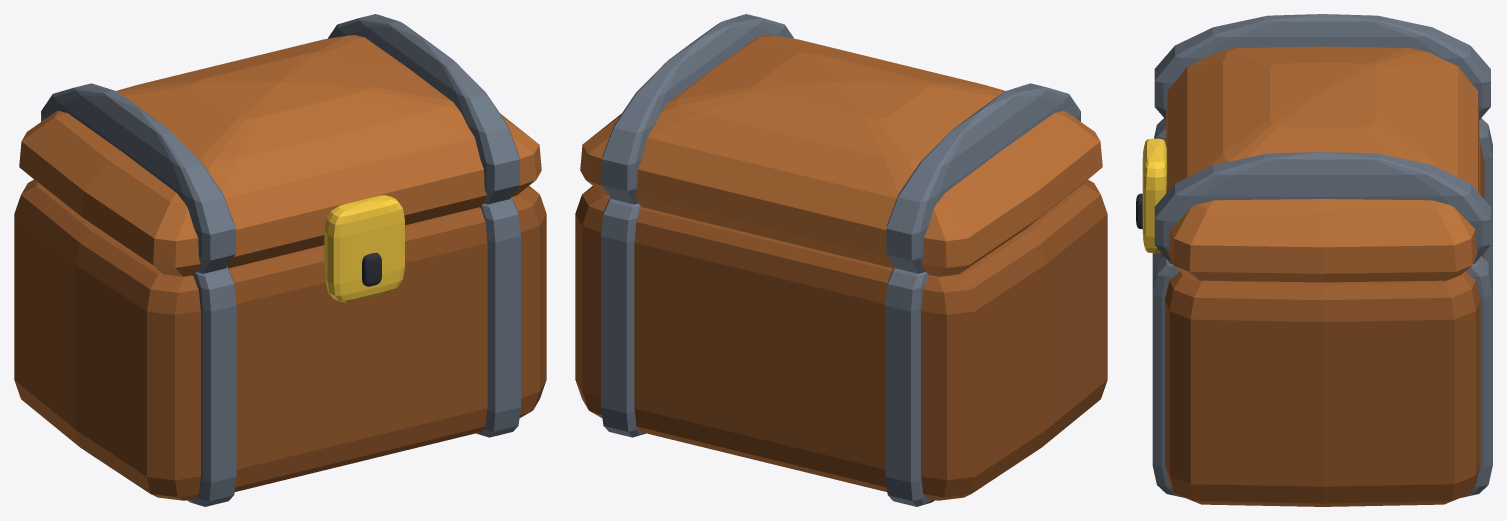
File: chest.glb
The picture shows the model from 3 angles, left to right: view 1: azimuth 30°, elevation 25°; view 2: azimuth 150°, elevation 25°; view 3: azimuth 270°, elevation 25°; orthographic projection.
Visible parts, largest first — view 1: chest; view 2: chest; view 3: chest.
Boxes of the visible parts, bbox=[...] form: chest: bbox=[14, 14, 546, 506]; chest: bbox=[575, 14, 1107, 506]; chest: bbox=[1136, 14, 1492, 506].
Bounding box in the file's own units: 1.1 × 0.88 × 0.831.
